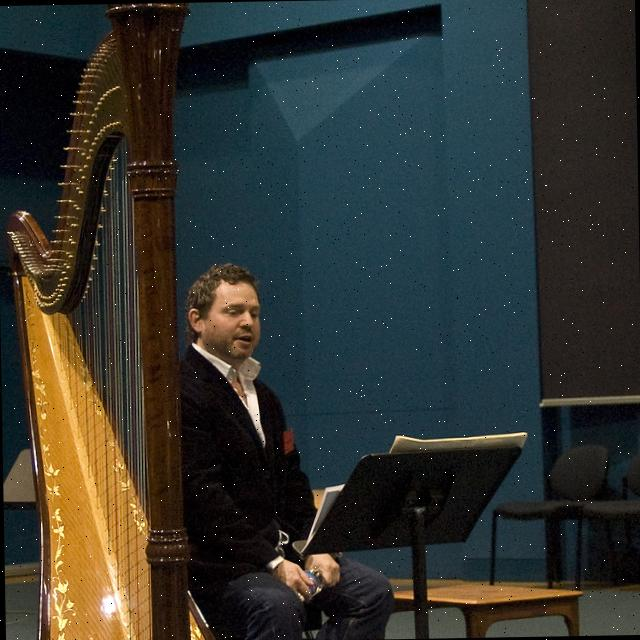harp: (0, 2, 201, 640)
